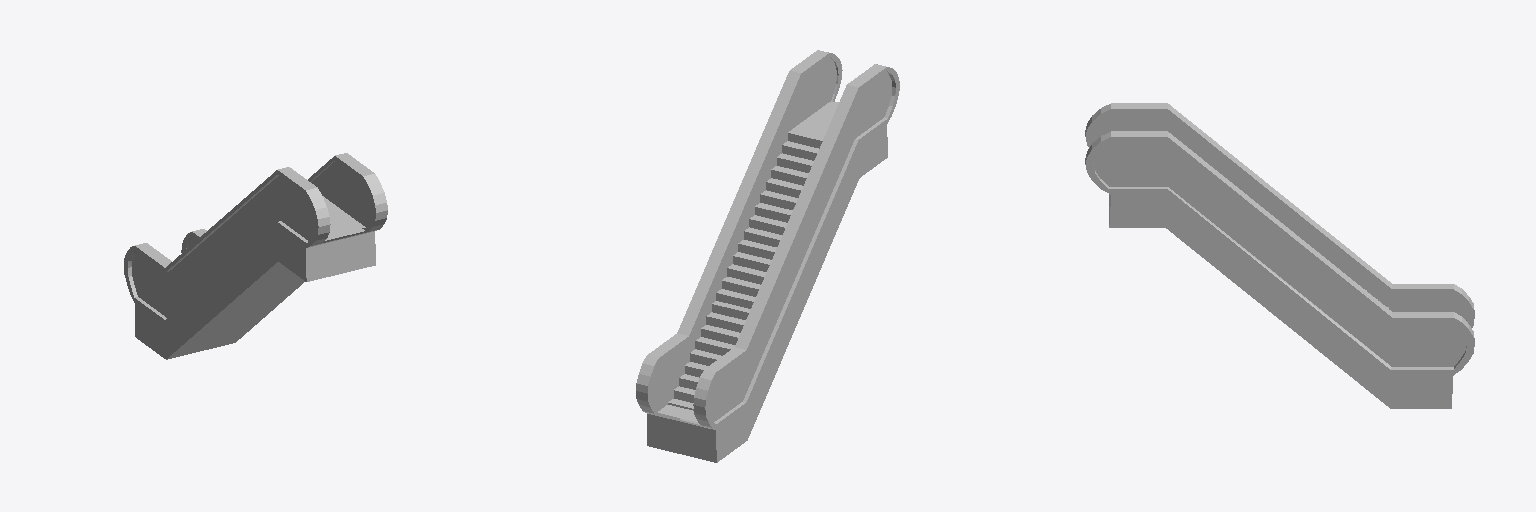
File: escalator.obj
3 views of the same model, side by side, from view 1: azimuth 30°, elevation 25°; view 2: azimuth 150°, elevation 25°; view 3: azimuth 270°, elevation 25° (orthographic).
Visible parts, largest first — view 1: Cube.002; view 2: Cube.002; view 3: Cube.002.
Boxes of the visible parts, x1=… form: Cube.002: x1=124, y1=153, x2=387, y2=359; Cube.002: x1=636, y1=50, x2=899, y2=462; Cube.002: x1=1085, y1=103, x2=1474, y2=408.
Size of the model in its own units: 6.4 by 23.9 by 31.05.